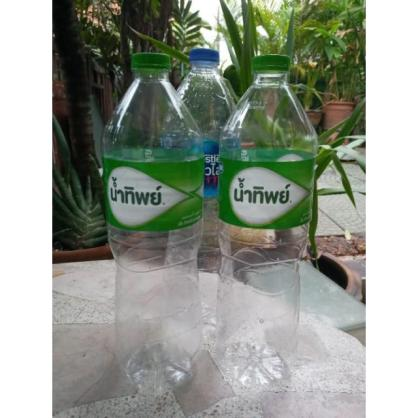bottle: (102, 50, 204, 392), (218, 54, 318, 391)
cap: (128, 51, 174, 77), (250, 56, 294, 79)
label: (104, 150, 202, 234), (221, 159, 312, 230)
